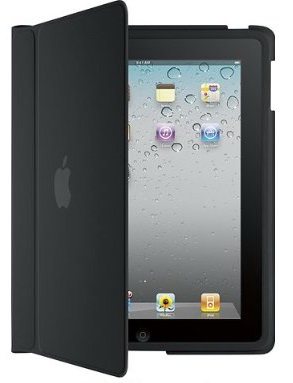Apple: (45, 141, 110, 232)
